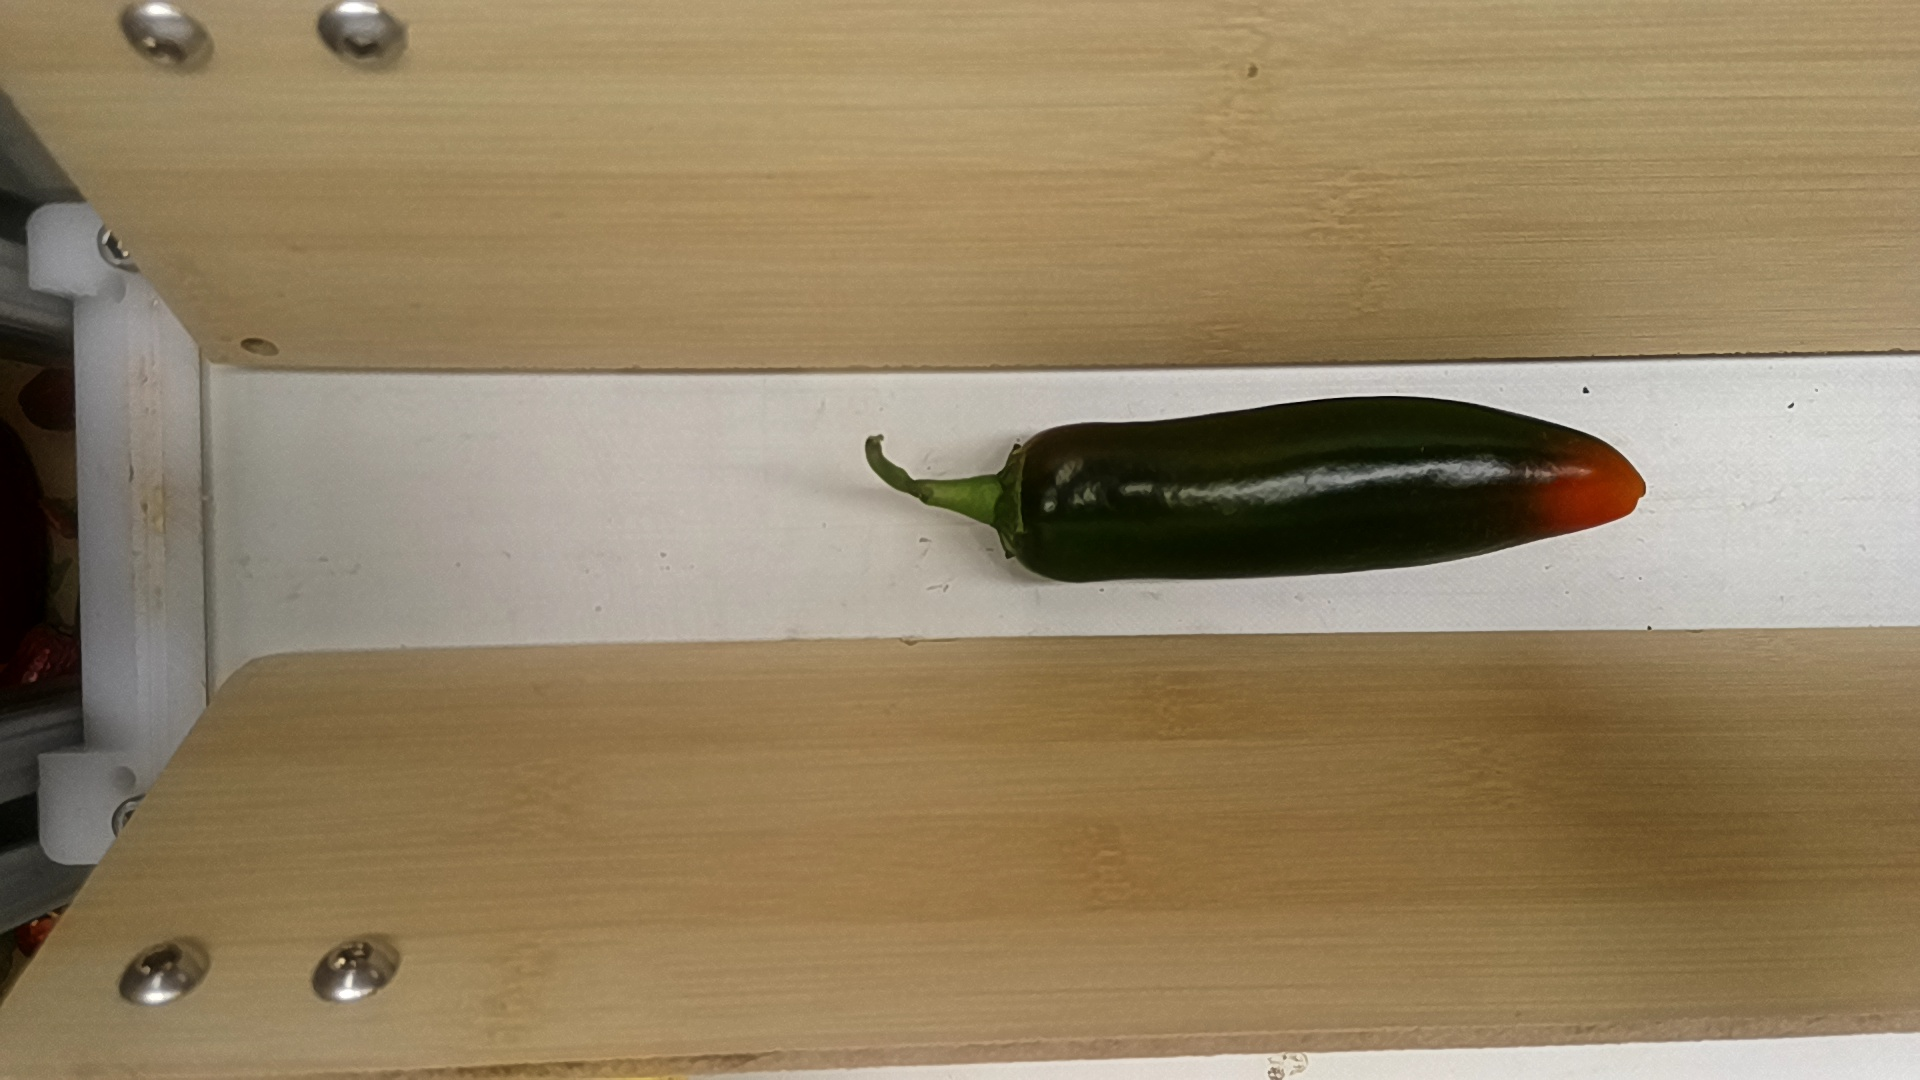Cut Point: (985, 419, 1067, 588)
